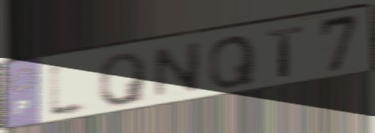7: (318, 12, 362, 77)
L: (46, 58, 93, 122)
N: (151, 39, 204, 103)
Q: (95, 50, 151, 109), (207, 33, 257, 92)
T: (265, 24, 306, 81)
